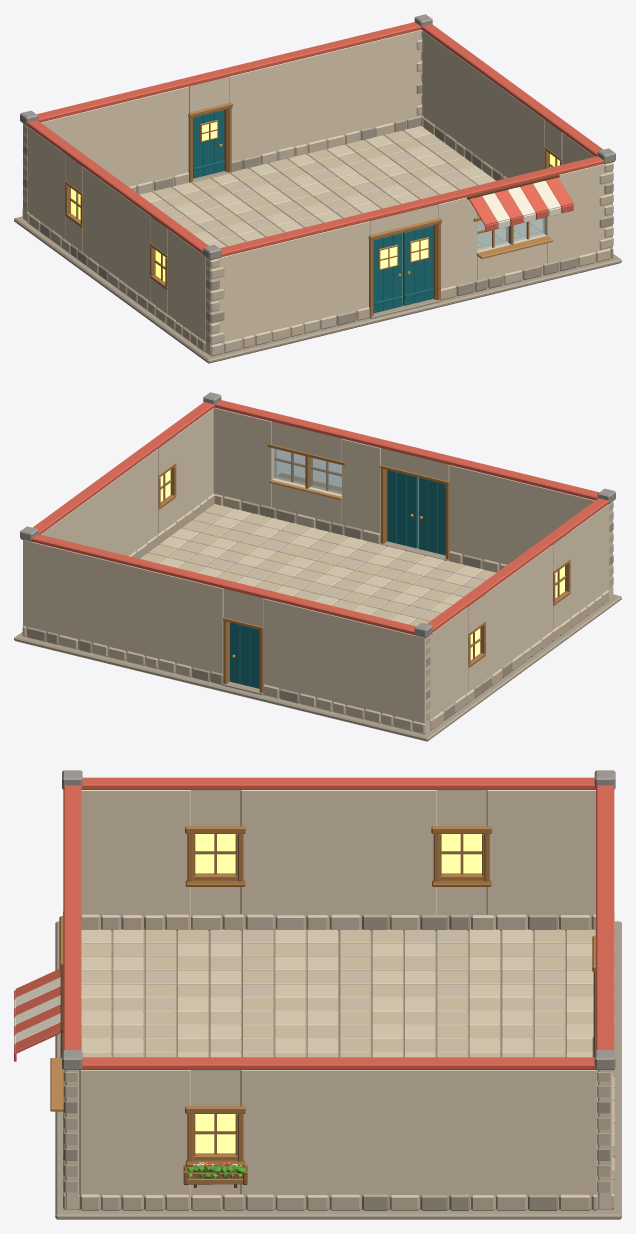
The model's file is cafe_interior_shell.glb.
The picture shows the model from 3 angles, top to bottom: view 1: azimuth 30°, elevation 25°; view 2: azimuth 150°, elevation 25°; view 3: azimuth 270°, elevation 25°; orthographic projection. The views are drawn at different scales.
Visible parts, largest first — view 1: cafe_interior_shell, cafe_interior_shell_cutaway, part_door_leaf_front_r, part_door_leaf_front_l, part_door_leaf_back; view 2: cafe_interior_shell, cafe_interior_shell_cutaway, part_door_leaf_front_r, part_door_leaf_front_l, part_door_leaf_back; view 3: cafe_interior_shell, cafe_interior_shell_cutaway.
Part boxes in pixels (bbox=[...]): cafe_interior_shell: bbox=[14, 14, 621, 363]; cafe_interior_shell_cutaway: bbox=[205, 24, 615, 356]; part_door_leaf_front_r: bbox=[403, 225, 433, 305]; part_door_leaf_front_l: bbox=[373, 233, 402, 313]; part_door_leaf_back: bbox=[193, 110, 224, 178]; cafe_interior_shell: bbox=[14, 488, 621, 741]; cafe_interior_shell_cutaway: bbox=[33, 392, 613, 598]; part_door_leaf_front_r: bbox=[387, 470, 417, 548]; part_door_leaf_front_l: bbox=[418, 477, 445, 555]; part_door_leaf_back: bbox=[230, 622, 259, 688]; cafe_interior_shell: bbox=[55, 770, 621, 1219]; cafe_interior_shell_cutaway: bbox=[14, 785, 597, 1210].
Bounding box in the file's own units: 10.91 × 2.72 × 9.38.
